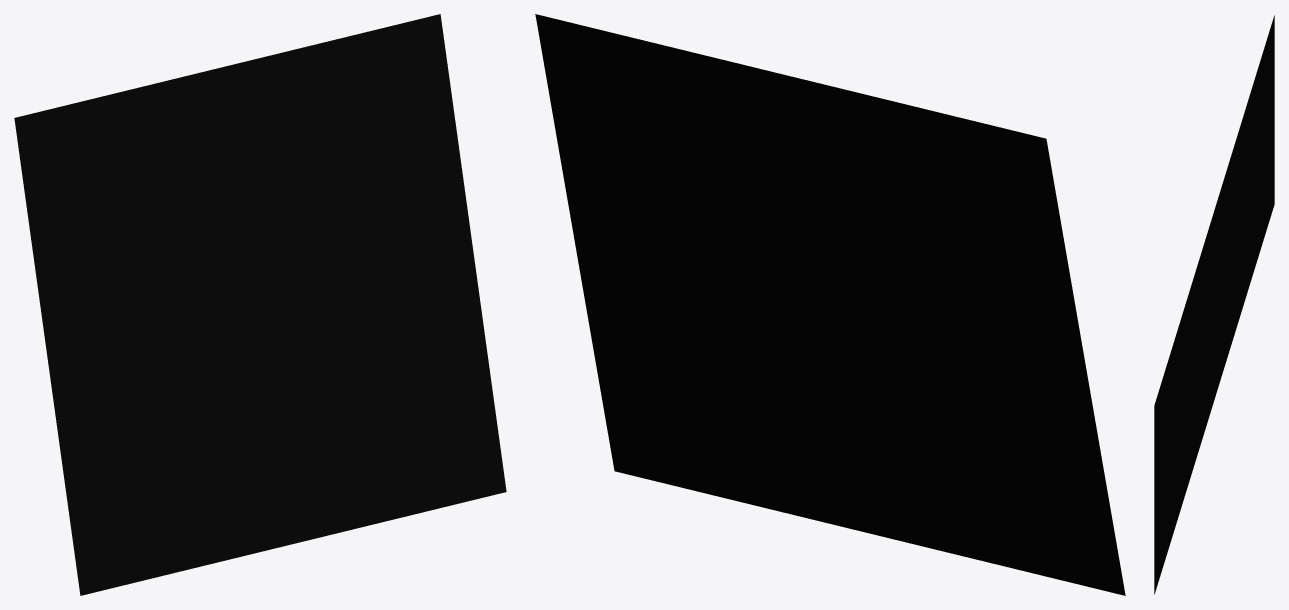
Rendered from Mushroom_001.fbx.
3 views of the same model, side by side, from view 1: azimuth 30°, elevation 25°; view 2: azimuth 150°, elevation 25°; view 3: azimuth 270°, elevation 25° (orthographic). The views are drawn at different scales.
Visible parts, largest first — view 1: mushroom_001; view 2: mushroom_001; view 3: mushroom_001.
Part boxes in pixels (<box>): mushroom_001: <box>14,14,506,595</box>; mushroom_001: <box>535,14,1125,595</box>; mushroom_001: <box>1154,15,1274,594</box>.
Bounding box in the file's own units: 100 × 96.33 × 26.84.
